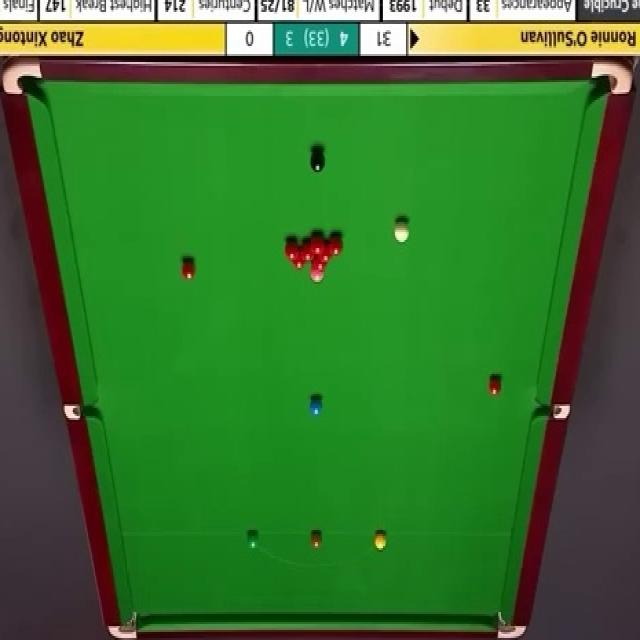pocket: (2, 57, 44, 97), (591, 60, 633, 97), (495, 606, 531, 640), (110, 608, 141, 640), (64, 402, 101, 422), (535, 405, 573, 420)
